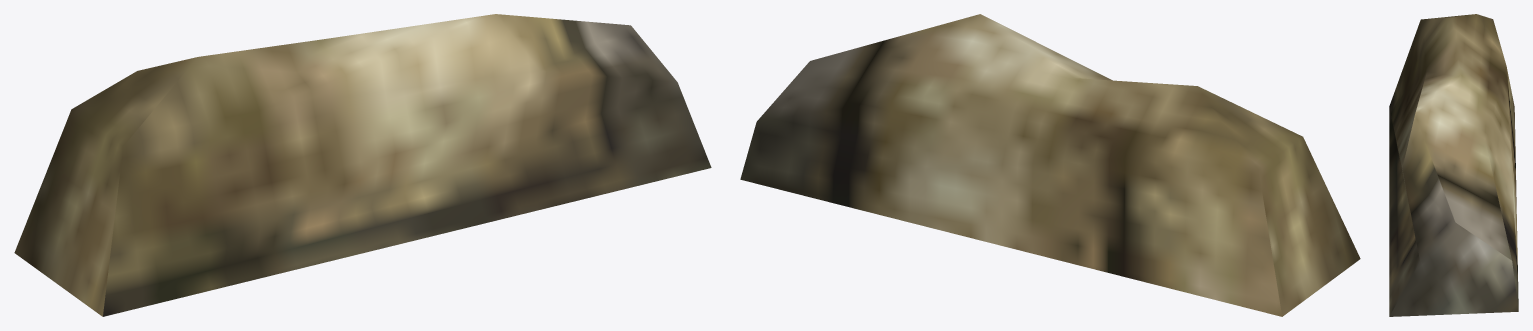
The model's file is b_general_obj_16.fbx.
3 views of the same model, side by side, from view 1: azimuth 30°, elevation 25°; view 2: azimuth 150°, elevation 25°; view 3: azimuth 270°, elevation 25° (orthographic). The views are drawn at different scales.
Visible parts, largest first — view 1: Object03; view 2: Object03; view 3: Object03.
Boxes of the visible parts, left/top/right/bottom form: Object03: left=14, top=14, right=711, bottom=316; Object03: left=740, top=14, right=1360, bottom=316; Object03: left=1389, top=14, right=1518, bottom=316.
Bounding box in the file's own units: 1.81 × 0.5534 × 0.4715.
